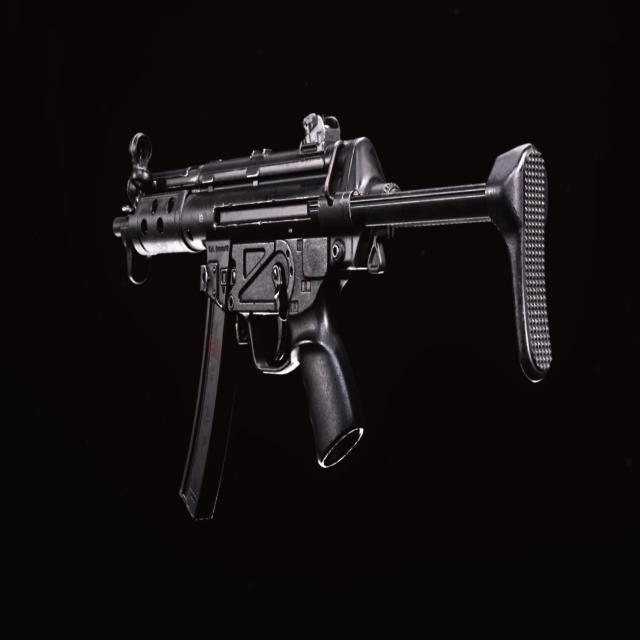Weapon: (113, 114, 551, 518)
